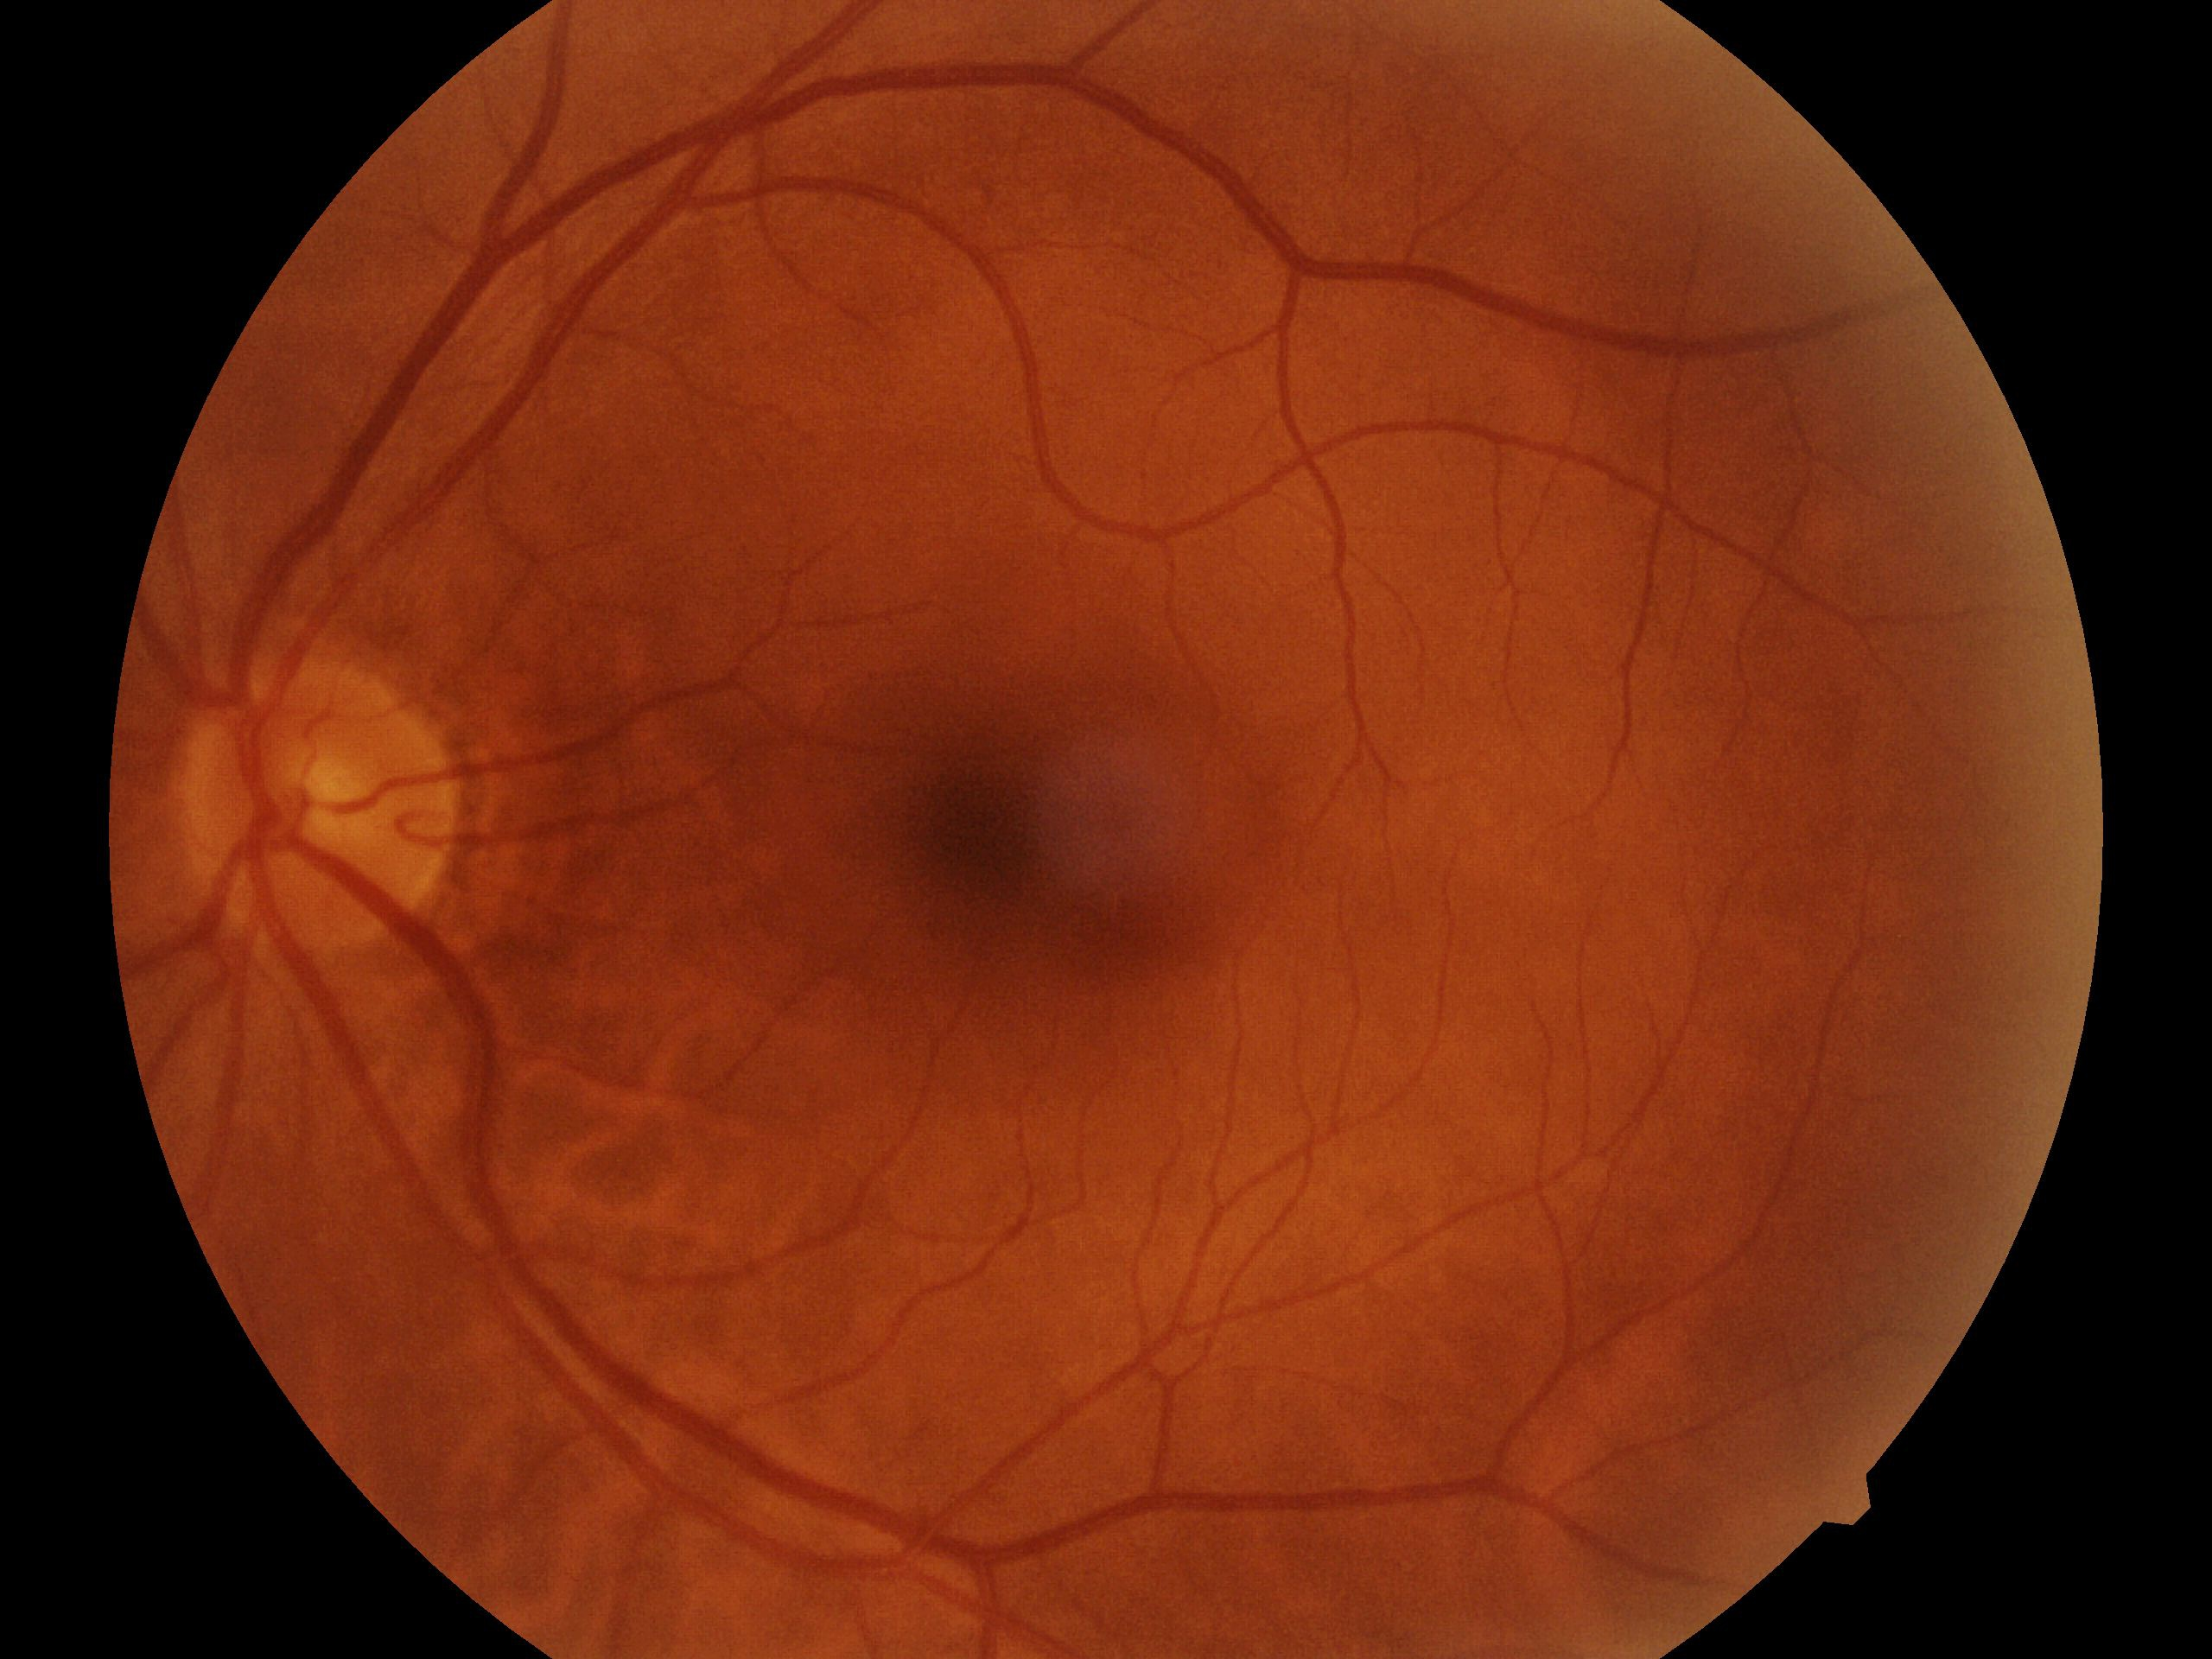Hemorrhages: (902, 659, 1237, 1012)
Optic-Disc: (171, 650, 462, 965)
Venules: (676, 73, 1268, 244), (324, 138, 543, 591)
